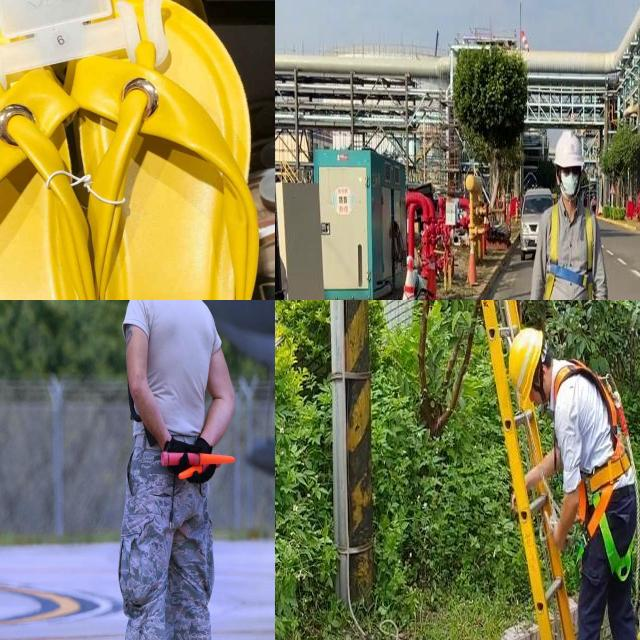Harness: (554, 362, 636, 584), (545, 204, 597, 300)
Sandals: (0, 0, 275, 300)
person: (95, 300, 254, 640)
